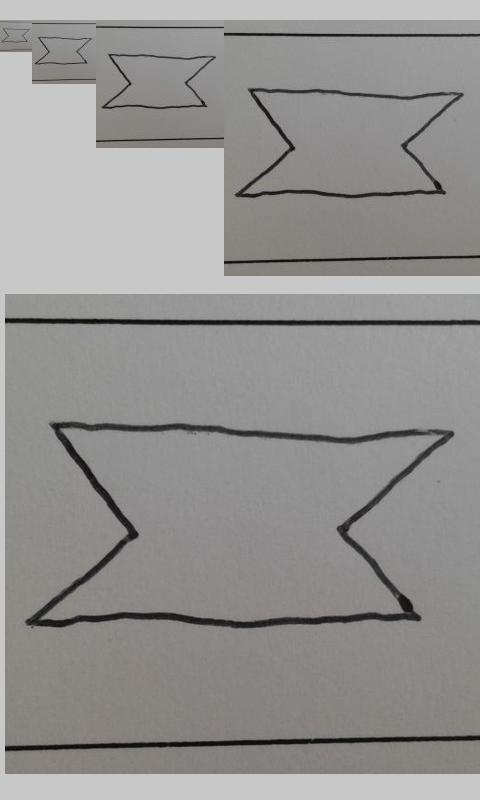edit_text: (26, 418, 453, 630), (237, 87, 466, 200), (101, 53, 218, 111), (34, 36, 93, 65), (1, 27, 30, 43)
